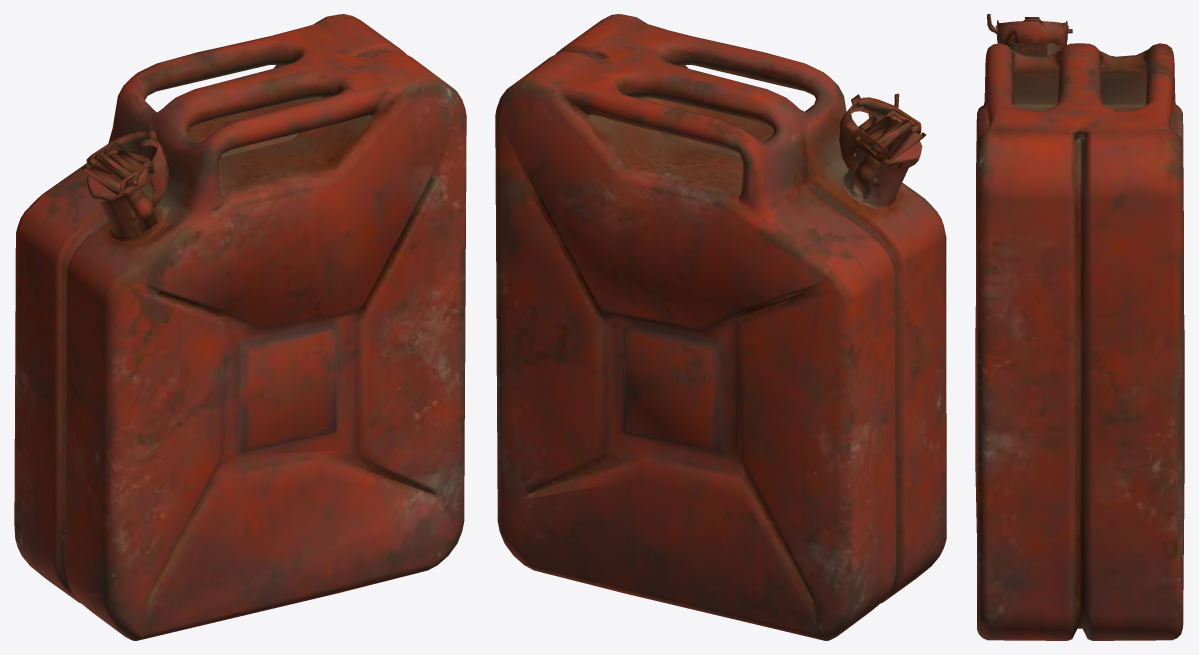
Rendered from metal_jerrycan.glb.
3 views of the same model, side by side, from view 1: azimuth 30°, elevation 25°; view 2: azimuth 150°, elevation 25°; view 3: azimuth 270°, elevation 25° (orthographic). The views are drawn at different scales.
Parts seen in each view (by area): view 1: metal_jerrycan; view 2: metal_jerrycan; view 3: metal_jerrycan.
Boxes of the visible parts, x1=… form: metal_jerrycan: x1=14, y1=14, x2=466, y2=640; metal_jerrycan: x1=495, y1=14, x2=946, y2=640; metal_jerrycan: x1=975, y1=14, x2=1184, y2=640.
Size of the model in its own units: 0.35 by 0.4548 by 0.1717.
1 material, 1 textured.
